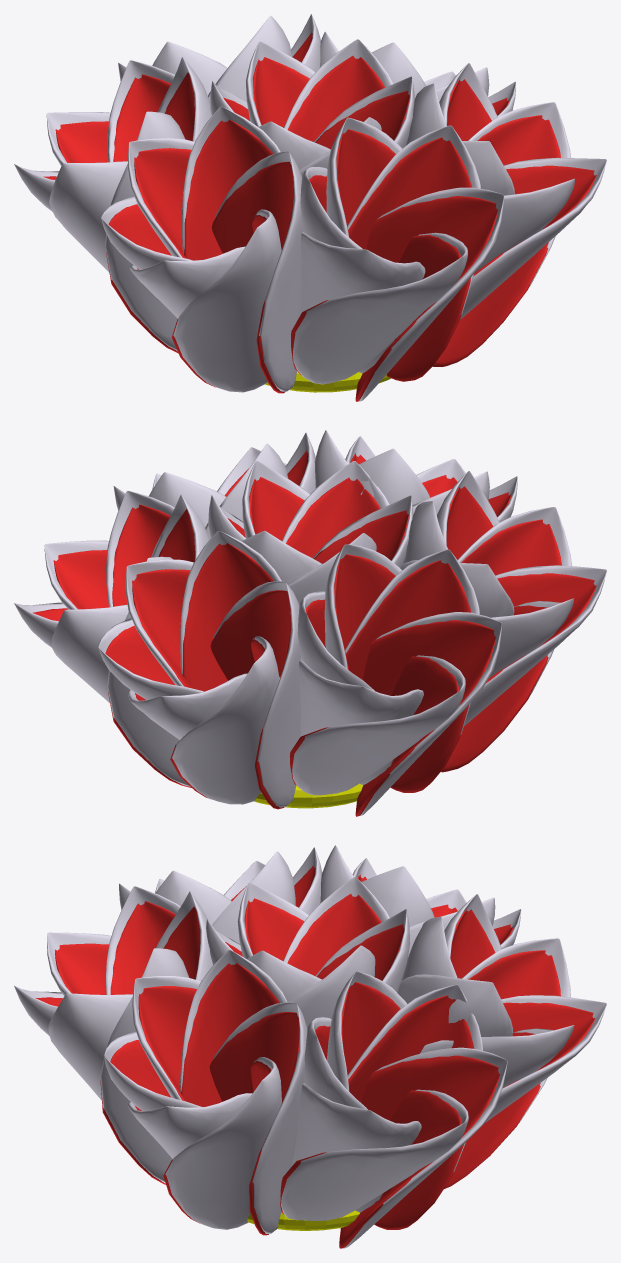
File: flower-1-1.fbx
3 views of the same model, one above another, from view 1: azimuth 30°, elevation 25°; view 2: azimuth 150°, elevation 25°; view 3: azimuth 270°, elevation 25° (orthographic).
Parts seen in each view (by area): view 1: flower1; view 2: flower1; view 3: flower1.
Boxes of the visible parts, box(x1,y1,x2,y2) form: flower1: box(14, 14, 606, 401); flower1: box(14, 430, 606, 816); flower1: box(14, 845, 606, 1248).
Bounding box in the file's own units: 7.49 × 4.57 × 8.16.
